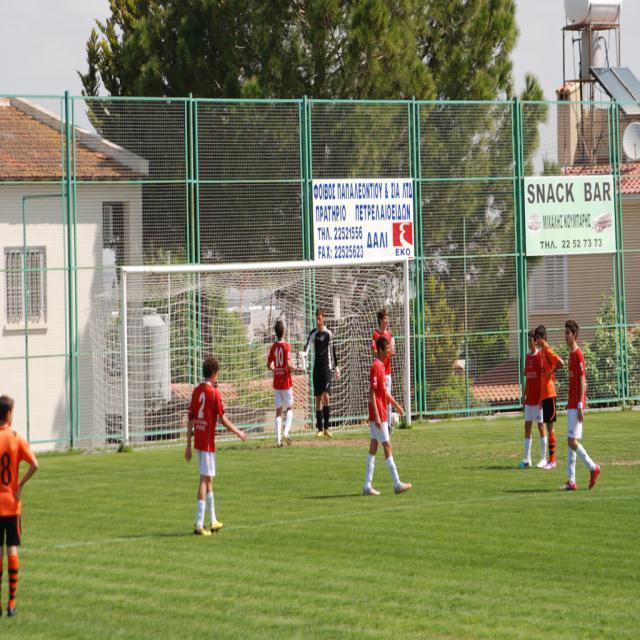ball: (392, 413, 400, 426)
